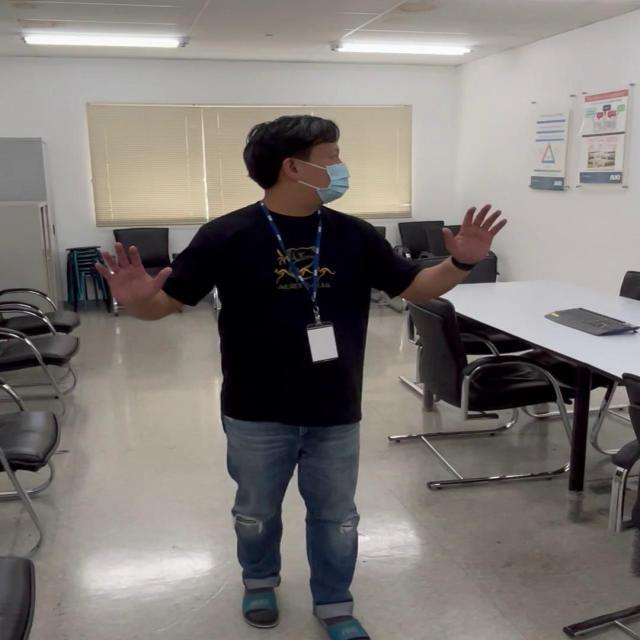bare_hand: (92, 240, 167, 306), (440, 200, 507, 265)
